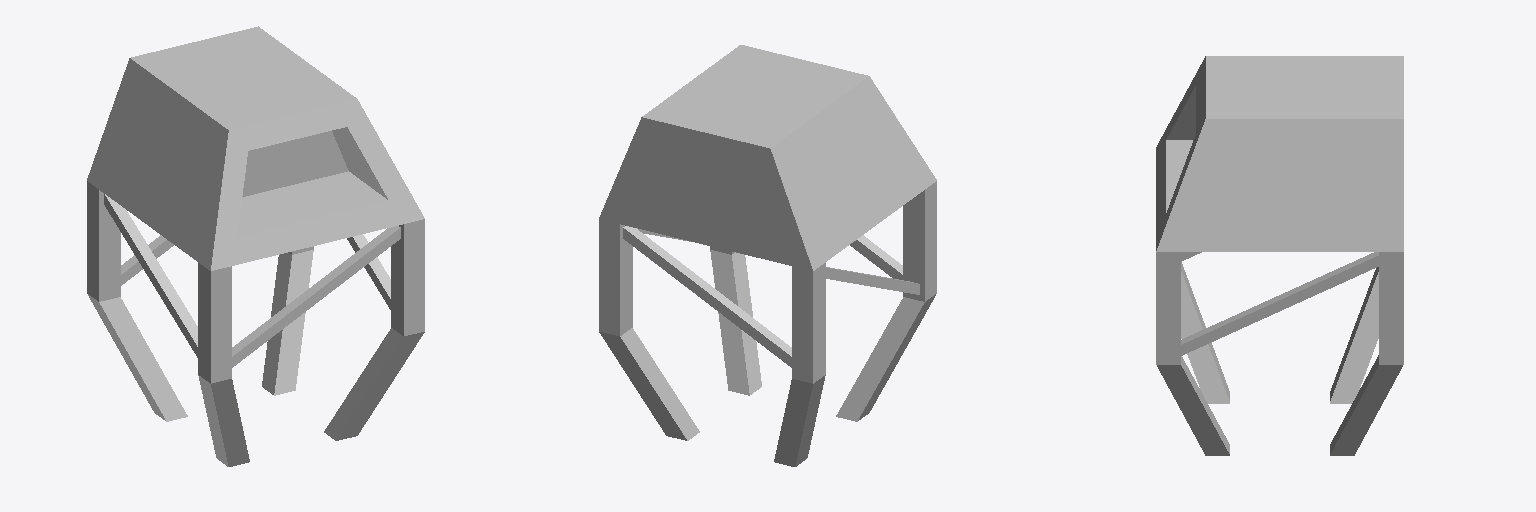
Rendered from walking_00_03.obj.
The picture shows the model from 3 angles: view 1: azimuth 30°, elevation 25°; view 2: azimuth 150°, elevation 25°; view 3: azimuth 270°, elevation 25°; orthographic projection.
Visible parts, largest first — view 1: mergedBlocks; view 2: mergedBlocks; view 3: mergedBlocks.
Boxes of the visible parts, box(x1,y1,x2,y2) form: mergedBlocks: box(87, 26, 424, 466); mergedBlocks: box(599, 45, 936, 466); mergedBlocks: box(1156, 56, 1403, 455).
Size of the model in its own units: 1 by 1.5 by 1.